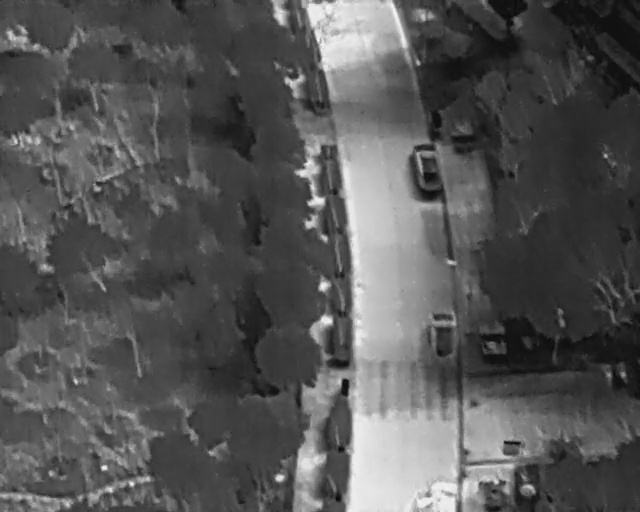Car: (410, 141, 446, 203), (426, 311, 460, 370)
